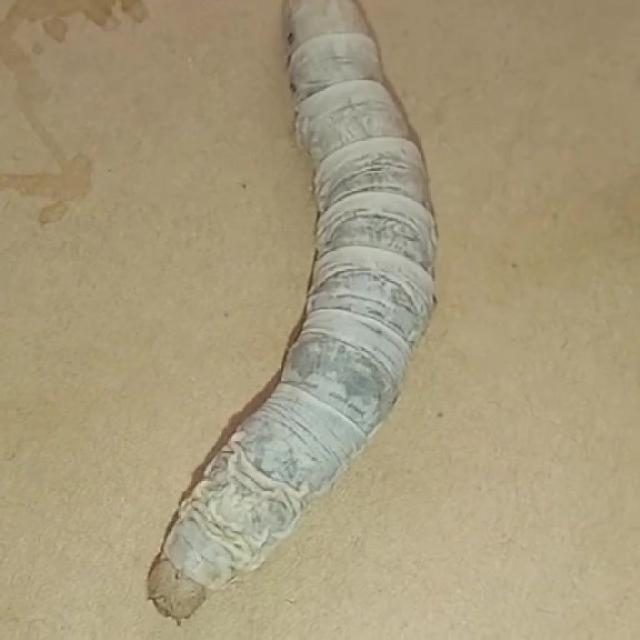Grasserie: (126, 2, 478, 618)
